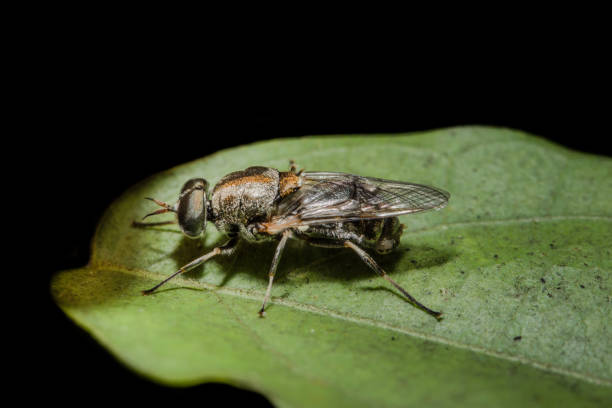Fruit fly: (118, 148, 471, 328)
